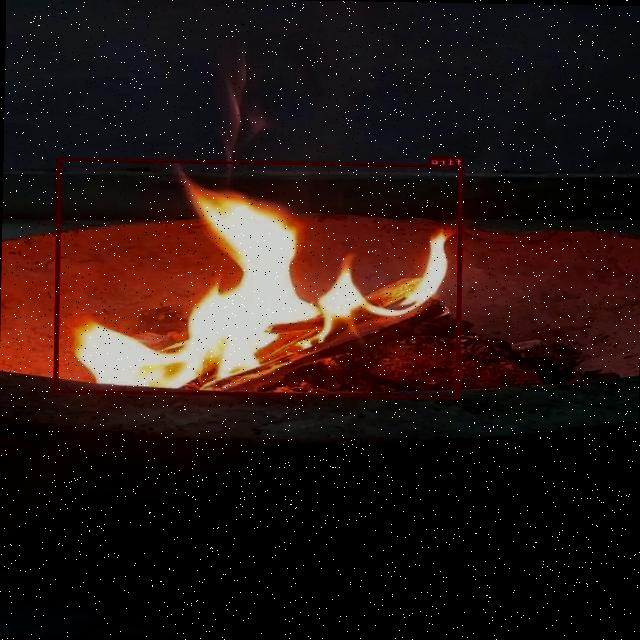fire: (54, 158, 463, 398)
